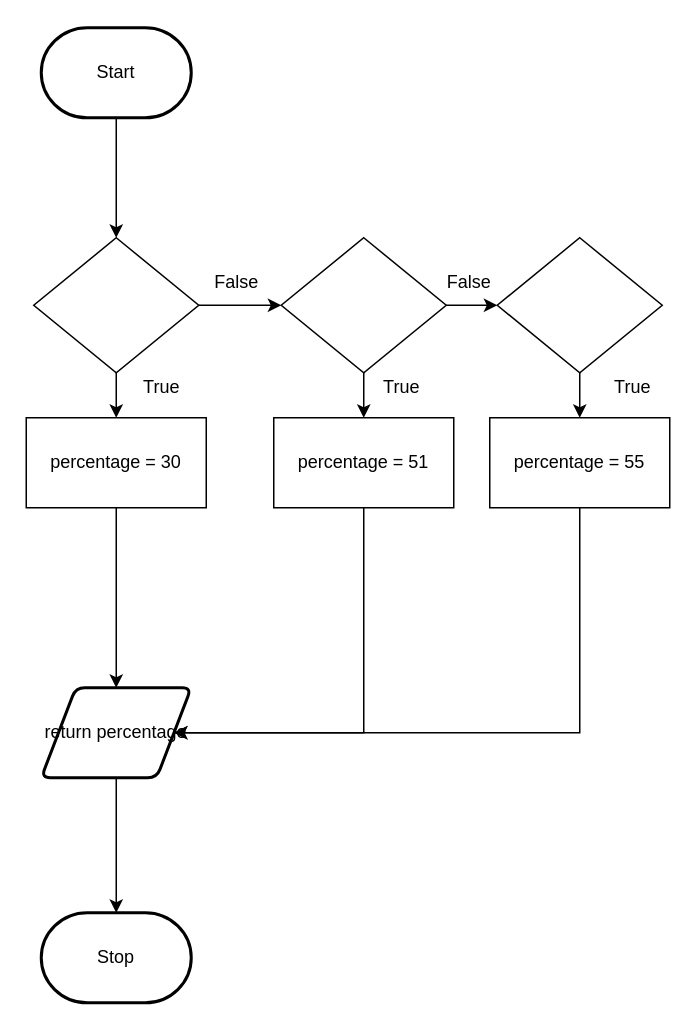
Image size: 696x1029. Some labels were removed from this diagram. Here are the shapes that lost their labels. From the top down, the centre of each, then its label:
point (115, 304): if grade = "R"
point (363, 304): if grade = "1-"
point (579, 304): if grade = "1"....
